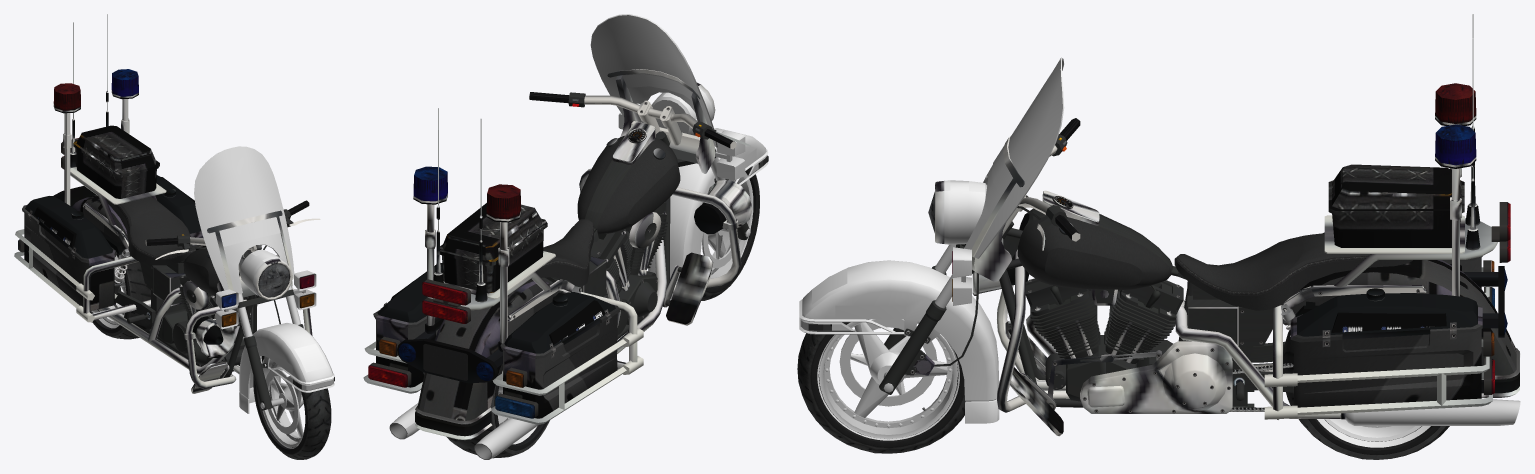
File: SuperMotors_7_.fbx
3 views of the same model, side by side, from view 1: azimuth 30°, elevation 25°; view 2: azimuth 150°, elevation 25°; view 3: azimuth 270°, elevation 25° (orthographic). The views are drawn at different scales.
Parts seen in each view (by area): view 1: SuperMotors_7_015, SuperMotors_7_006, SuperMotors_7_013, SuperMotors_7_001, SuperMotors_7_016, SuperMotors_7_012, SuperMotors_7_000, SuperMotors_7_018, SuperMotors_7_014, SuperMotors_7_025, SuperMotors_7_023, SuperMotors_7_028; view 2: SuperMotors_7_015, SuperMotors_7_006, SuperMotors_7_016, SuperMotors_7_013, SuperMotors_7_001, SuperMotors_7_012, SuperMotors_7_000, SuperMotors_7_010, SuperMotors_7_023, SuperMotors_7_025, SuperMotors_7_028, SuperMotors_7_005 (+4 smaller); view 3: SuperMotors_7_015, SuperMotors_7_013, SuperMotors_7_001, SuperMotors_7_016, SuperMotors_7_006, SuperMotors_7_000, SuperMotors_7_011, SuperMotors_7_028, SuperMotors_7_012, SuperMotors_7_025, SuperMotors_7_023, SuperMotors_7_014.
Part boxes in pixels (<box>): SuperMotors_7_015: <box>14,14,312,393</box>; SuperMotors_7_006: <box>194,146,294,294</box>; SuperMotors_7_013: <box>239,300,334,413</box>; SuperMotors_7_001: <box>253,356,331,459</box>; SuperMotors_7_016: <box>145,200,320,299</box>; SuperMotors_7_012: <box>216,255,316,337</box>; SuperMotors_7_000: <box>90,253,150,339</box>; SuperMotors_7_018: <box>258,263,290,297</box>; SuperMotors_7_014: <box>113,276,155,323</box>; SuperMotors_7_025: <box>111,69,138,96</box>; SuperMotors_7_023: <box>53,83,80,110</box>; SuperMotors_7_028: <box>34,177,194,247</box>; SuperMotors_7_015: <box>363,108,752,439</box>; SuperMotors_7_006: <box>590,14,717,147</box>; SuperMotors_7_016: <box>529,69,750,173</box>; SuperMotors_7_013: <box>648,128,768,298</box>; SuperMotors_7_001: <box>701,166,759,300</box>; SuperMotors_7_012: <box>618,103,745,181</box>; SuperMotors_7_000: <box>446,364,549,458</box>; SuperMotors_7_010: <box>474,418,538,459</box>; SuperMotors_7_023: <box>486,184,521,219</box>; SuperMotors_7_025: <box>413,166,447,201</box>; SuperMotors_7_028: <box>391,263,605,344</box>; SuperMotors_7_005: <box>422,281,467,305</box>; SuperMotors_7_015: <box>972,14,1519,436</box>; SuperMotors_7_013: <box>799,260,999,423</box>; SuperMotors_7_001: <box>797,319,965,453</box>; SuperMotors_7_016: <box>935,118,1080,281</box>; SuperMotors_7_006: <box>964,57,1064,258</box>; SuperMotors_7_000: <box>1283,329,1449,459</box>; SuperMotors_7_011: <box>1345,399,1520,425</box>; SuperMotors_7_028: <box>1331,312,1446,332</box>; SuperMotors_7_012: <box>935,185,987,308</box>; SuperMotors_7_025: <box>1435,124,1476,165</box>; SuperMotors_7_023: <box>1435,83,1476,123</box>; SuperMotors_7_014: <box>1230,341,1293,411</box>.
Size of what is drawn, in the model's own units: 66.55 by 112 by 173.
